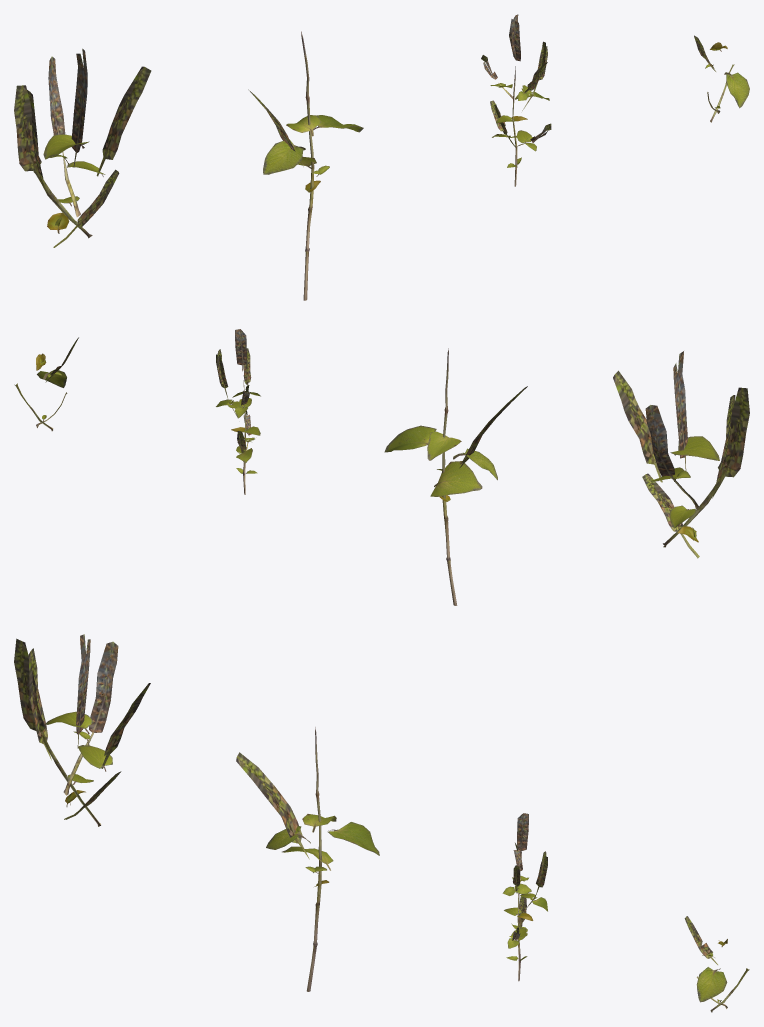
File: shrub_03.glb
3 views of the same model, one above another, from view 1: azimuth 30°, elevation 25°; view 2: azimuth 150°, elevation 25°; view 3: azimuth 330°, elevation 25° (orthographic).
Parts seen in each view (by area): view 1: shrub_03_a, shrub_03_b, shrub_03_c, shrub_03_d; view 2: shrub_03_a, shrub_03_b, shrub_03_c, shrub_03_d; view 3: shrub_03_a, shrub_03_b, shrub_03_c, shrub_03_d.
Part boxes in pixels (box(x1,y1,x2,y2)): shrub_03_a: box(14, 48, 151, 247); shrub_03_b: box(248, 31, 363, 300); shrub_03_c: box(481, 14, 551, 186); shrub_03_d: box(694, 35, 749, 122); shrub_03_a: box(613, 351, 749, 558); shrub_03_b: box(384, 348, 527, 605); shrub_03_c: box(216, 329, 260, 494); shrub_03_d: box(14, 337, 78, 431); shrub_03_a: box(14, 634, 150, 826); shrub_03_b: box(236, 727, 379, 991); shrub_03_c: box(502, 813, 547, 981); shrub_03_d: box(684, 916, 749, 1012).
Bounding box in the file's own units: 1.38 × 0.5564 × 0.1573.
1 material, 1 textured.
